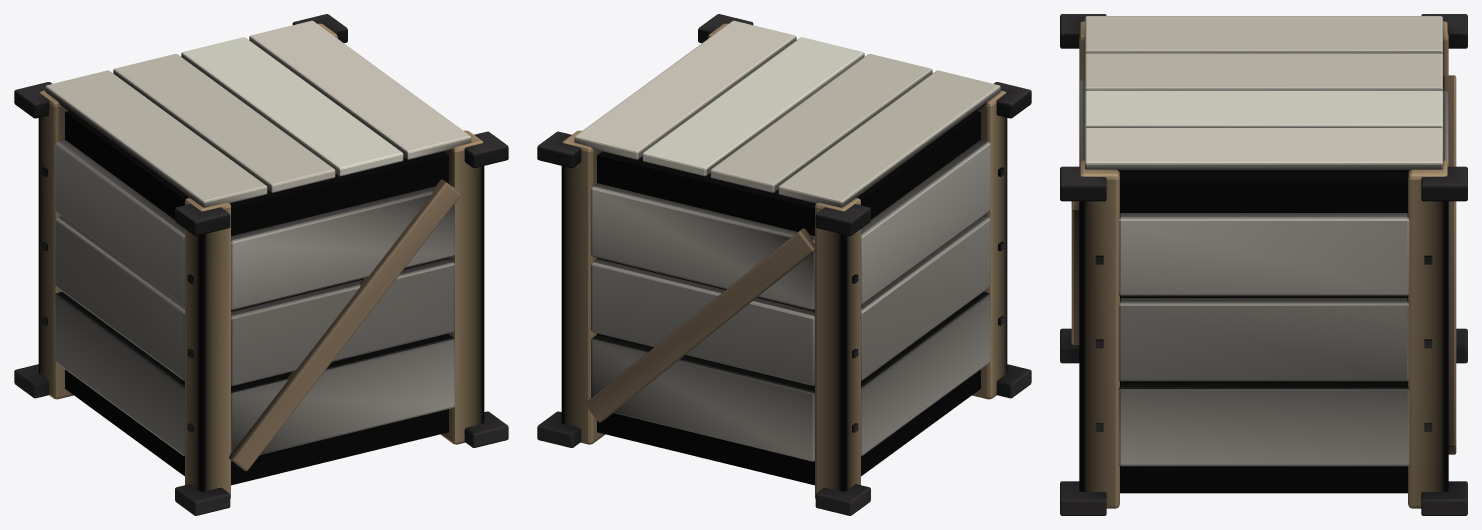
File: HeroCrate_1.fbx
The picture shows the model from 3 angles, left to right: view 1: azimuth 30°, elevation 25°; view 2: azimuth 150°, elevation 25°; view 3: azimuth 270°, elevation 25°; orthographic projection. The views are drawn at different scales.
Parts seen in each view (by area): view 1: HeroCrate_1__Wood, HeroCrate_1__Paint; view 2: HeroCrate_1__Wood, HeroCrate_1__Paint; view 3: HeroCrate_1__Wood, HeroCrate_1__Paint.
Boxes of the visible parts, x1,y1,x2,y2 form: HeroCrate_1__Wood: (38,20,484,498); HeroCrate_1__Paint: (14,14,508,515); HeroCrate_1__Wood: (561,20,1007,498); HeroCrate_1__Paint: (537,14,1031,515); HeroCrate_1__Wood: (1071,16,1456,508); HeroCrate_1__Paint: (1060,14,1467,515).
Bounding box in the file's own units: 0.497 × 0.4594 × 0.497.
